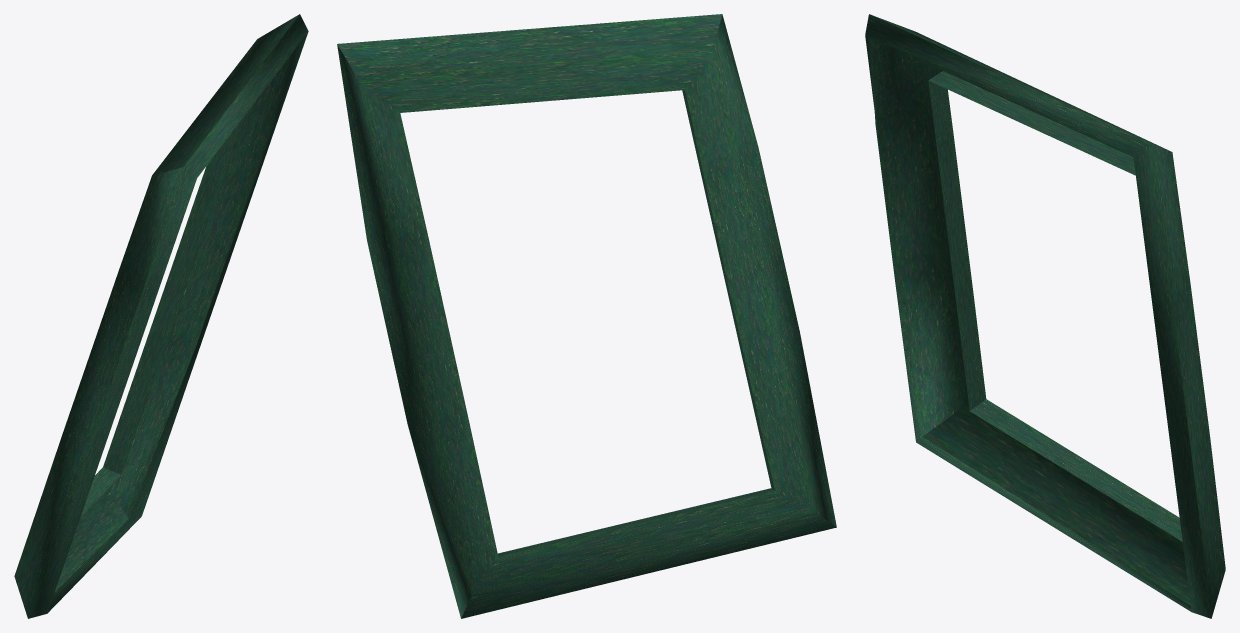
File: MIRKWOOD_MIRK_PLAYSURFACE28.fbx
3 views of the same model, side by side, from view 1: azimuth 30°, elevation 25°; view 2: azimuth 150°, elevation 25°; view 3: azimuth 270°, elevation 25° (orthographic). The views are drawn at different scales.
Visible parts, largest first — view 1: MIRKWOOD_MIRK_PLAYSURFACE28; view 2: MIRKWOOD_MIRK_PLAYSURFACE28; view 3: MIRKWOOD_MIRK_PLAYSURFACE28.
Boxes of the visible parts, <box> form: MIRKWOOD_MIRK_PLAYSURFACE28: <box>14,14,308,618</box>; MIRKWOOD_MIRK_PLAYSURFACE28: <box>337,14,836,618</box>; MIRKWOOD_MIRK_PLAYSURFACE28: <box>865,14,1225,618</box>.
Size of the model in its own units: 37080 by 46419 by 27301.
Materials: 1 (1 with a texture image).
